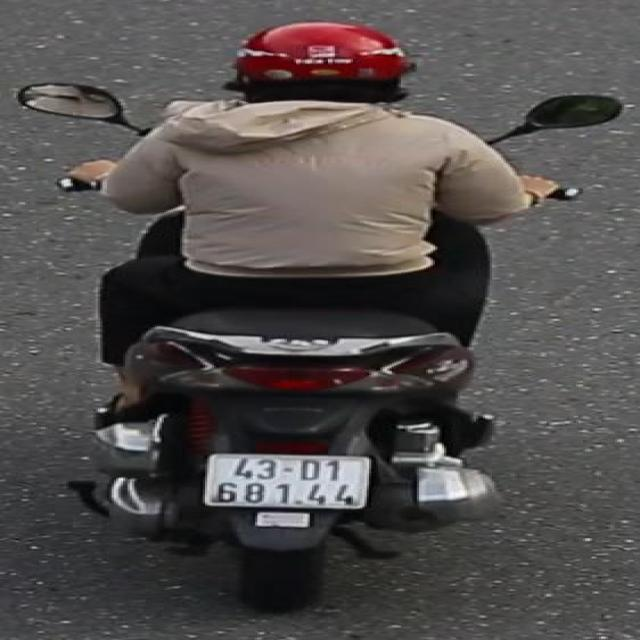LP: (204, 446, 372, 517)
helmet: (206, 15, 427, 126)
